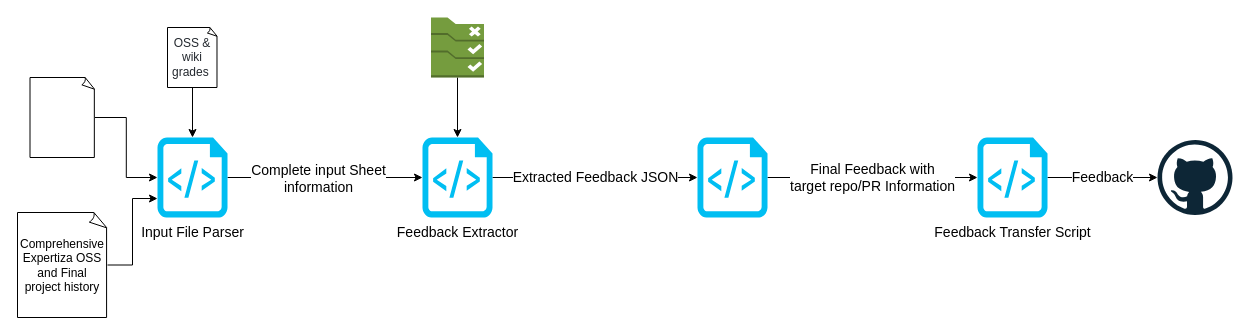
This 1250x335 diagram has some shape labels left out. Here are the shapes that lost their labels. From the top down, the centre of each, then its label:
pixel 457 47: Config
pixel 62 117: Project demo evaluation rubric
pixel 732 177: Feedback Processor
